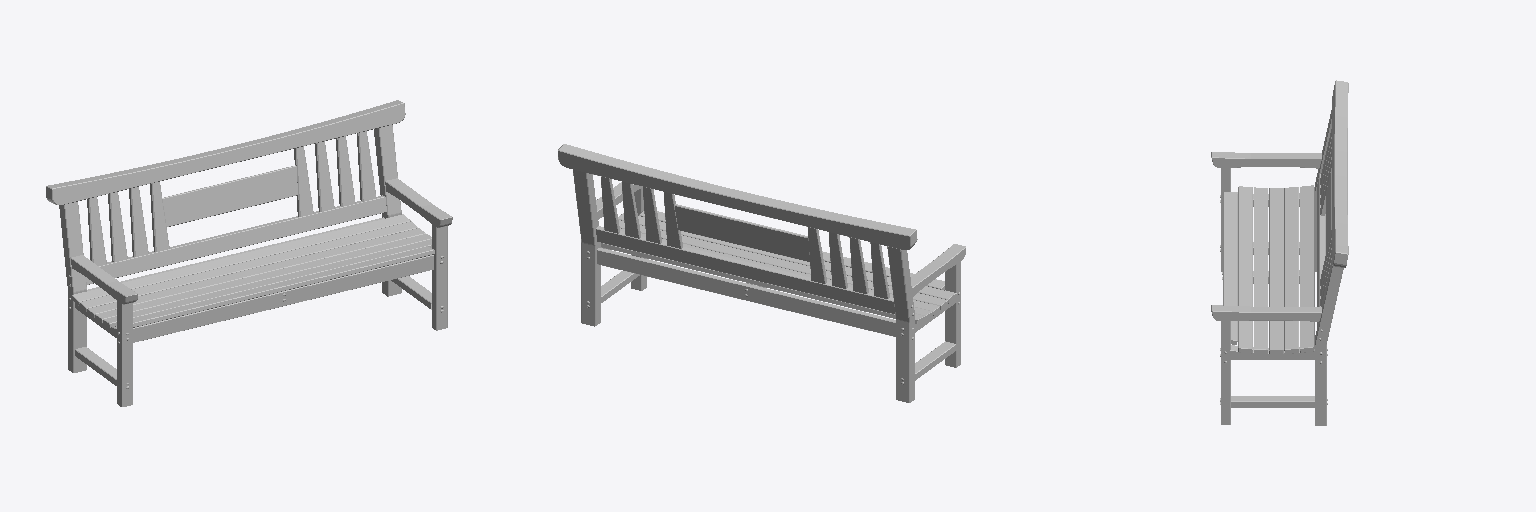
Rendered from Banca.obj.
3 views of the same model, side by side, from view 1: azimuth 30°, elevation 25°; view 2: azimuth 150°, elevation 25°; view 3: azimuth 270°, elevation 25° (orthographic).
Parts seen in each view (by area): view 1: Bench; view 2: Bench; view 3: Bench.
Boxes of the visible parts, box(x1,y1,x2,y2) form: Bench: box(46, 100, 452, 406); Bench: box(558, 144, 965, 402); Bench: box(1211, 80, 1348, 425).
Size of the model in its own units: 59.23 by 28.85 by 19.95.